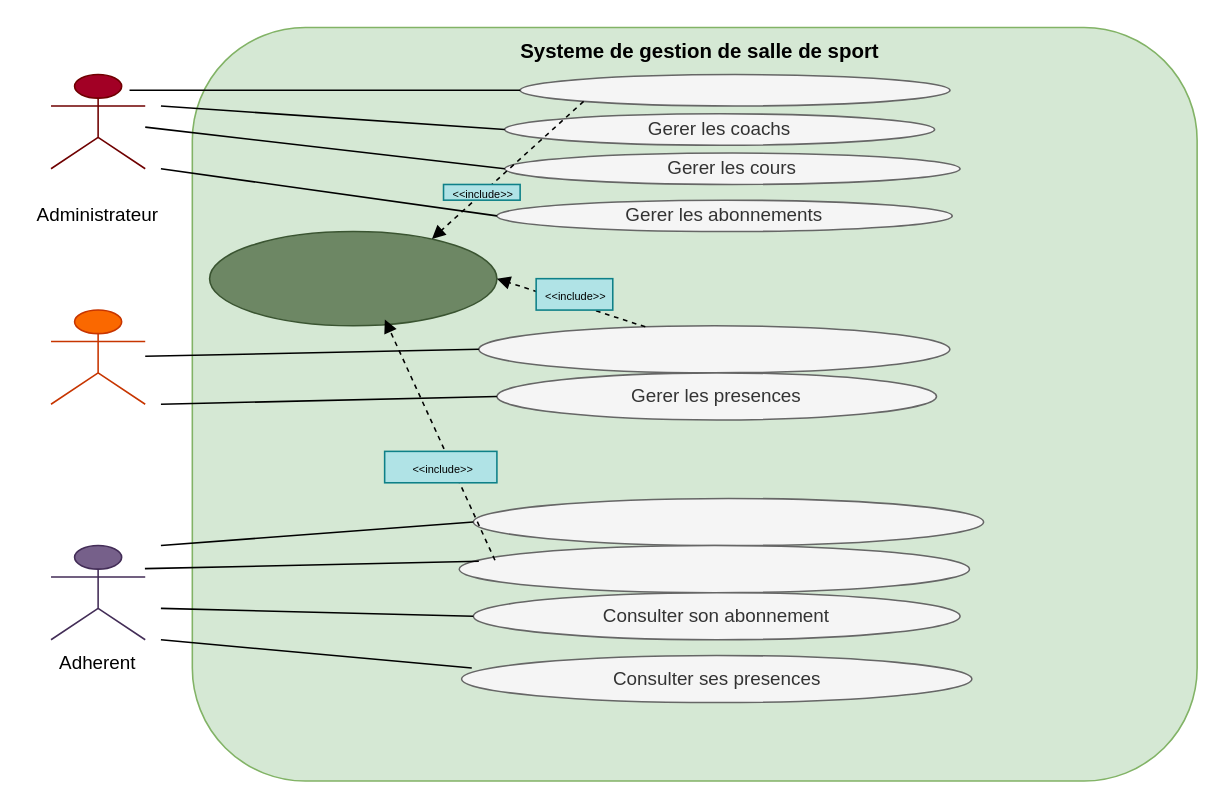
This 1225x809 diagram has some shape labels left out. The centre of each missing label's shape, as x and y in pixels:
"Coach" goes at pixel 97 356.
"Consulter les cours" goes at pixel 728 521.
"Consulter ses cours" goes at pixel 713 348.
"Gerer les adherents" goes at pixel 734 89.
"S'inscrire a un cours" goes at pixel 713 568.
"Se connecter" goes at pixel 352 278.
